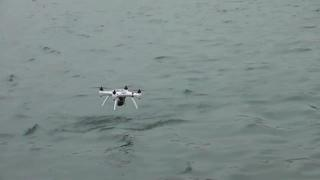UAV: (99, 86, 142, 110)
